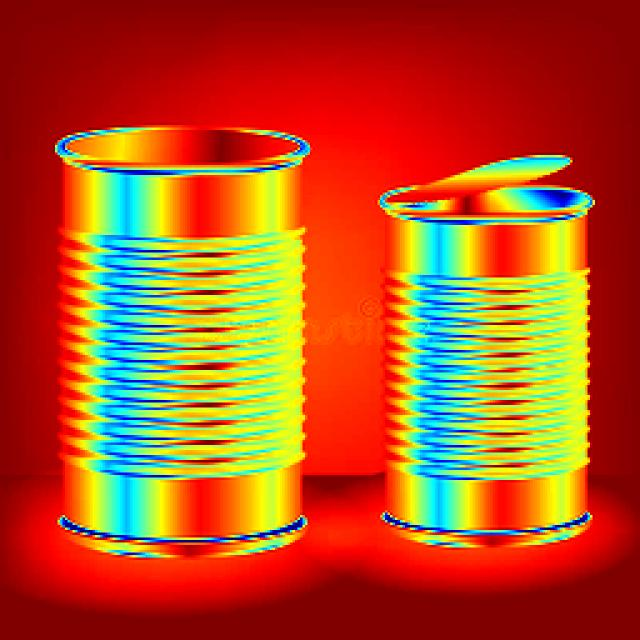Aluminium Food Cans: (41, 91, 318, 578), (367, 142, 593, 532)
